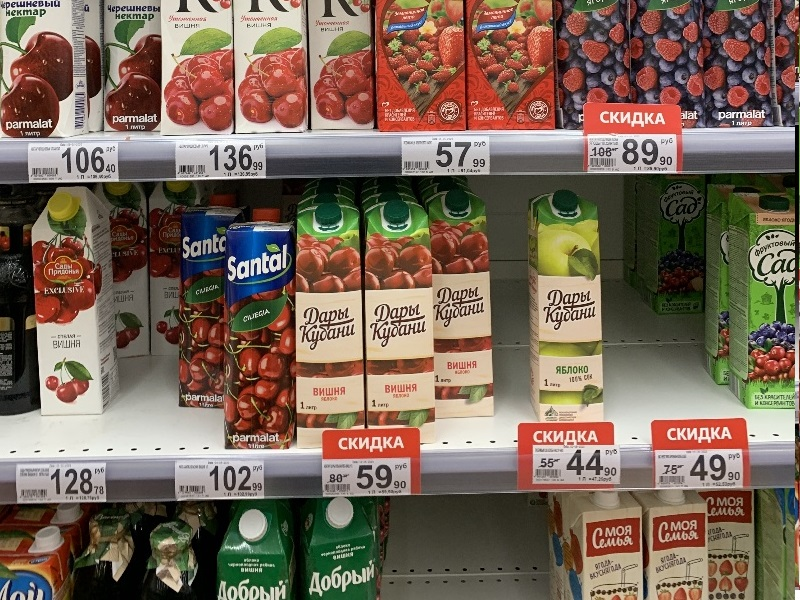juice: (516, 190, 613, 427), (30, 183, 121, 421), (358, 197, 445, 440), (219, 203, 302, 455), (294, 200, 374, 445), (425, 187, 503, 423)
